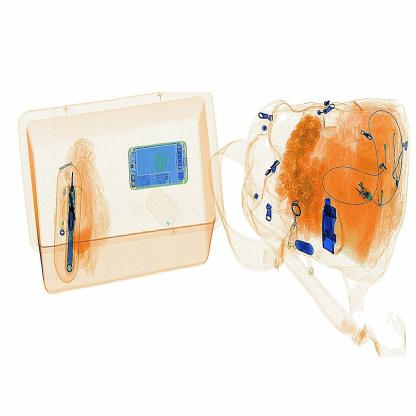knife: (322, 190, 339, 242)
